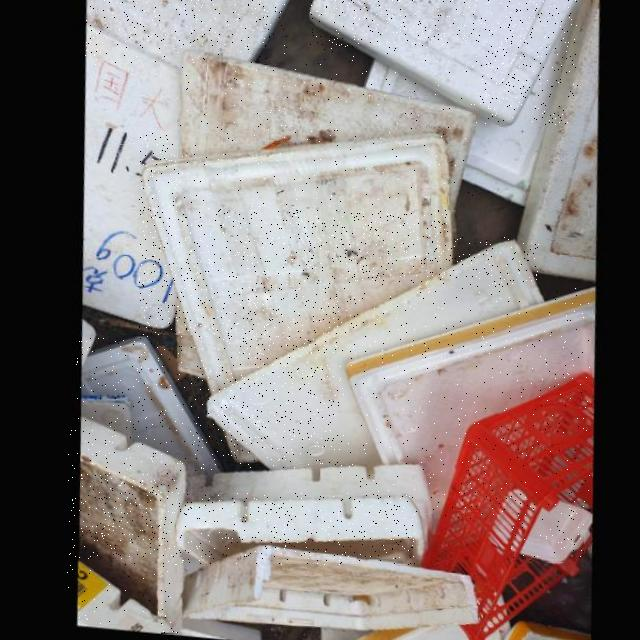styrofoam: (140, 134, 448, 392), (199, 238, 539, 468), (339, 286, 591, 519), (177, 49, 474, 210), (309, 0, 578, 125), (172, 545, 469, 629), (68, 416, 178, 634), (75, 336, 215, 473), (167, 493, 415, 565), (86, 0, 287, 65), (68, 560, 161, 634), (512, 501, 584, 562)
